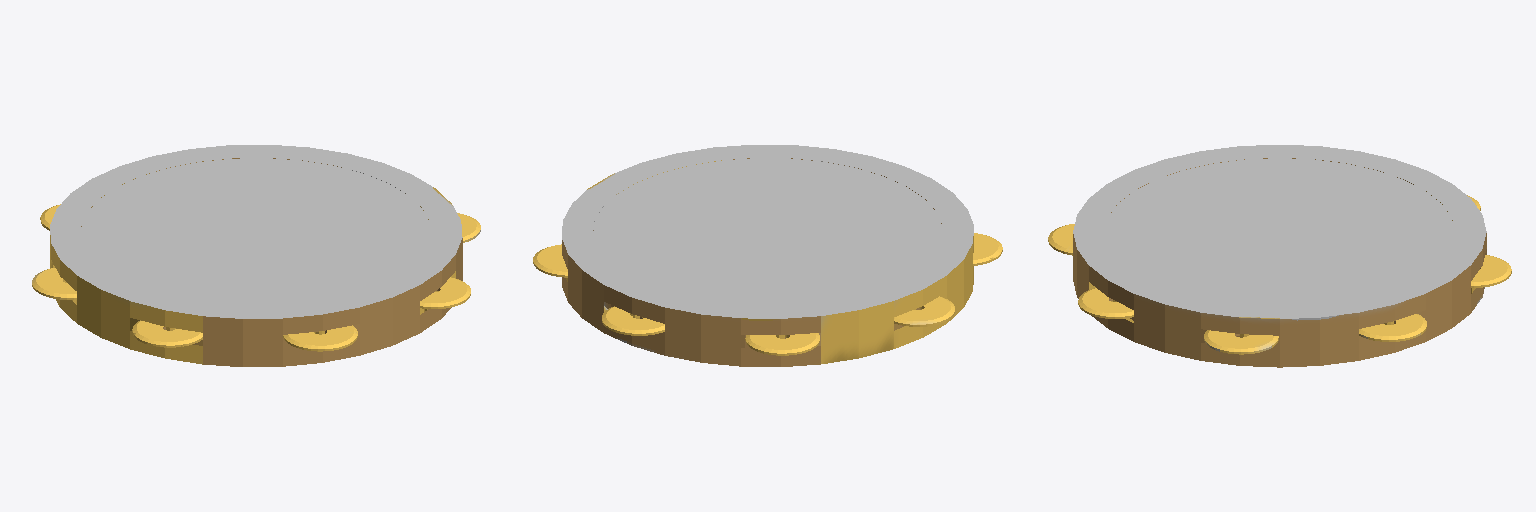
3 renders of one model, left to right at view 1: azimuth 30°, elevation 25°; view 2: azimuth 150°, elevation 25°; view 3: azimuth 270°, elevation 25°, orthographic.
Parts seen in each view (by area): view 1: 円柱.001; view 2: 円柱.001; view 3: 円柱.001.
Part boxes in pixels (x1,y1,x2,y2): 円柱.001: (32,145,480,366); 円柱.001: (533,145,1002,366); 円柱.001: (1048,145,1511,367).
Size of the model in its own units: 1.12 by 0.1294 by 1.13.
Materials: 1 (1 with a texture image).